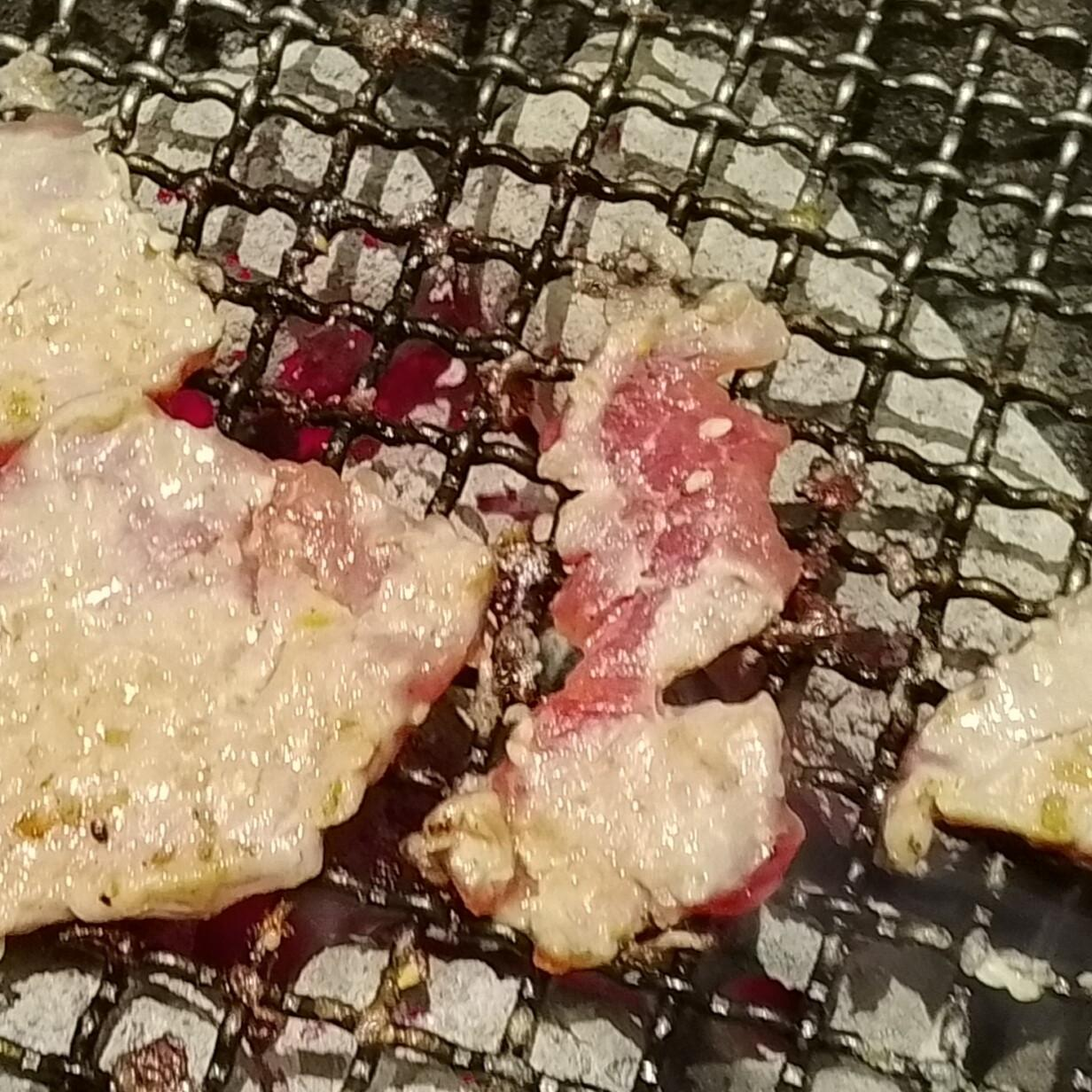Undercooked: (405, 284, 803, 974), (0, 415, 498, 940)
Well-Cooked: (0, 122, 225, 439), (881, 585, 1091, 888)
